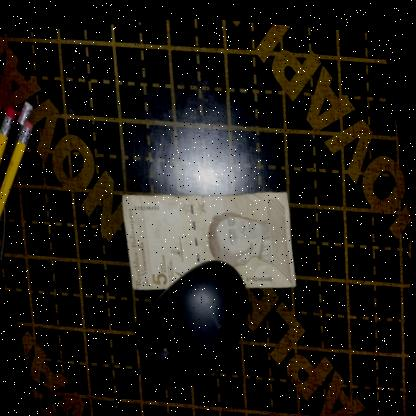five-front-vef: (117, 163, 303, 308)
